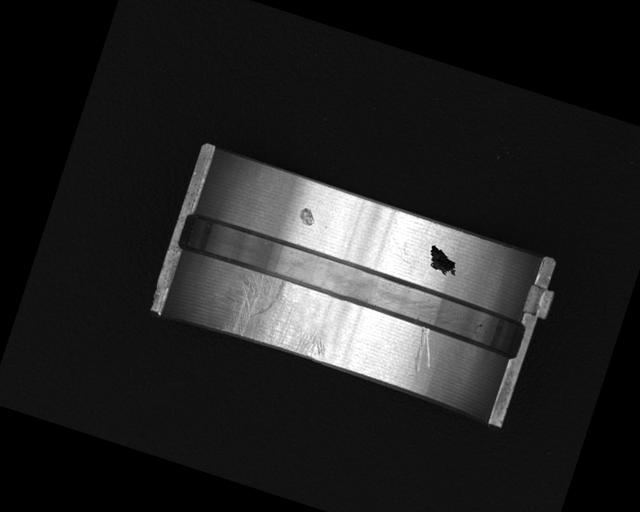blot: (423, 244, 462, 279)
bruise: (295, 204, 318, 227)
gap: (174, 208, 530, 359)
nick: (408, 326, 440, 376)
scratch: (210, 263, 341, 363)
